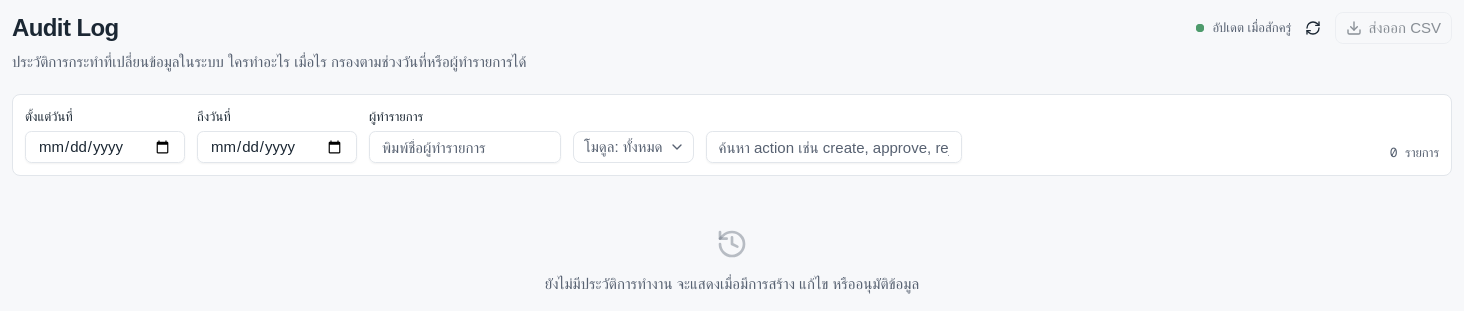
Scenario: AuditLogView: filter วันที่และชื่อผู้ทำรายการ › วันเริ่มต้นมากกว่าวันสิ้นสุด: แสดงข้อความและไม่ยิง request
The image size is (1464, 311).
Type "2026-10-15" into the date field labelled "ตั้งแต่วันที่" at coordinates (105, 147), box [25,131,185,163]
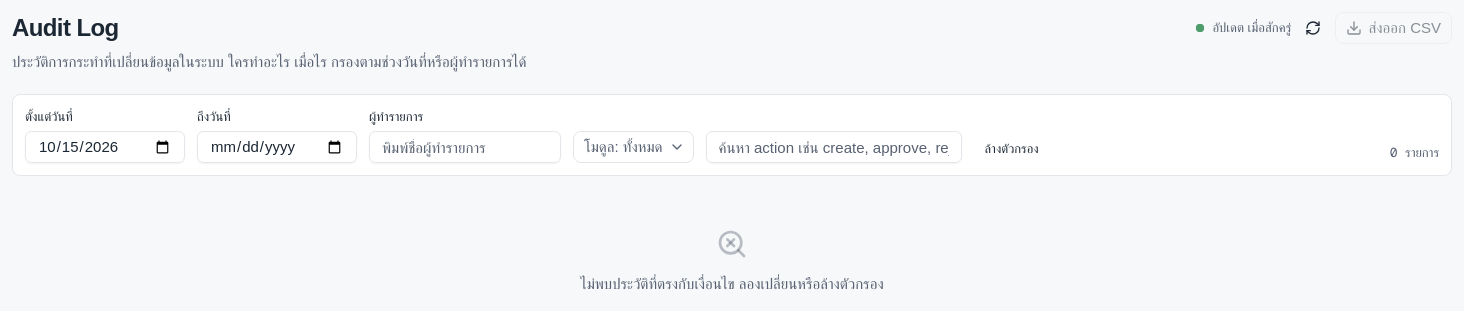
Type "2026-10-14" into the date field labelled "ถึงวันที่" at coordinates (277, 147), box [197,131,357,163]
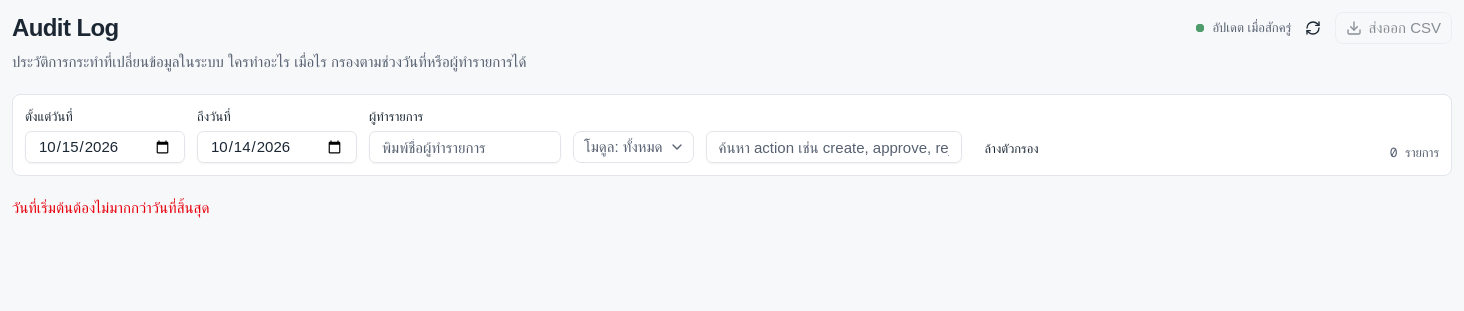
Now the text "วันที่เริ่มต้นต้องไม่มากกว่าวันที่สิ้นสุด" is shown, box [12,199,209,216]
